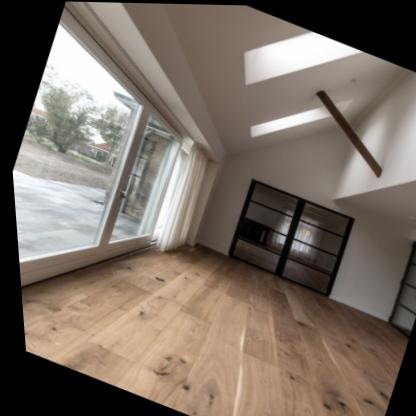Wooden floor: (17, 243, 404, 416)
